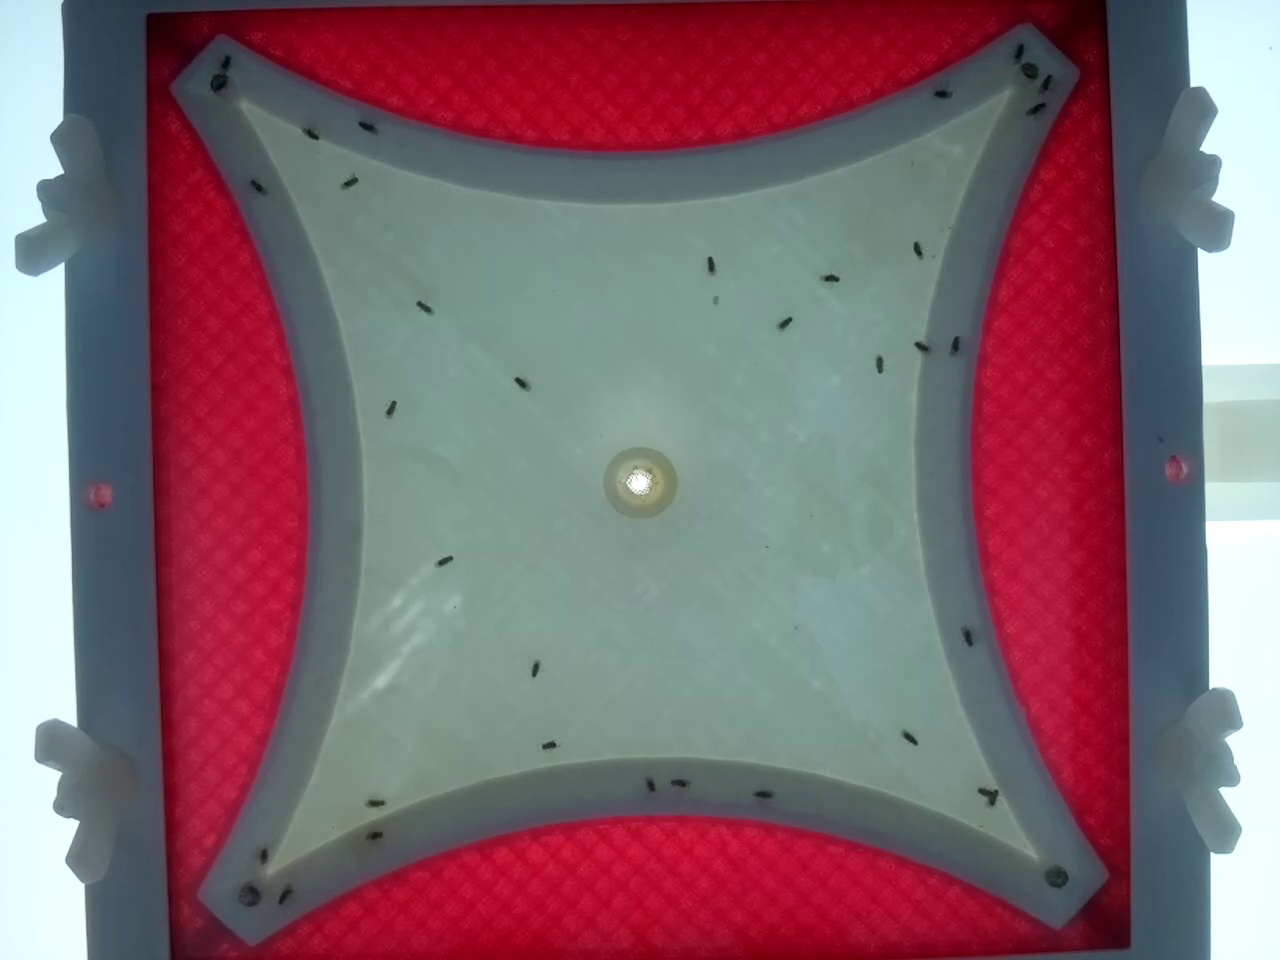fly: (1031, 72, 1056, 97), (1023, 96, 1048, 121), (925, 82, 950, 107), (904, 237, 929, 262), (771, 311, 796, 336), (910, 335, 935, 360), (352, 113, 377, 138), (867, 350, 892, 375), (508, 369, 533, 394), (605, 445, 630, 470), (896, 724, 921, 749), (362, 790, 387, 815), (250, 842, 275, 867), (362, 822, 387, 847), (974, 781, 999, 806), (537, 732, 562, 757), (245, 173, 270, 198), (214, 50, 239, 75), (336, 170, 361, 195), (299, 121, 324, 146), (1007, 37, 1032, 62), (816, 265, 841, 290), (411, 294, 436, 319), (698, 252, 723, 277), (942, 328, 967, 353), (377, 396, 402, 421), (920, 57, 945, 82), (954, 627, 979, 652), (523, 655, 548, 680), (636, 771, 661, 796), (666, 770, 691, 795), (432, 548, 457, 573), (271, 883, 296, 908), (744, 781, 769, 805), (240, 878, 265, 903)
